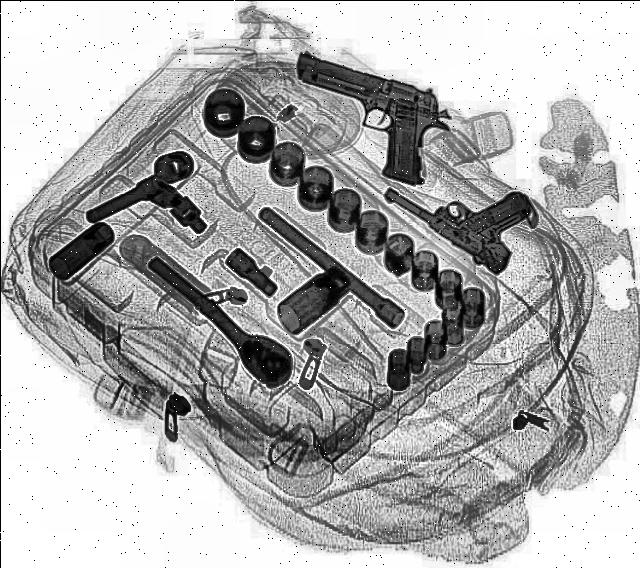Gun: (256, 50, 462, 189), (372, 138, 556, 278)
